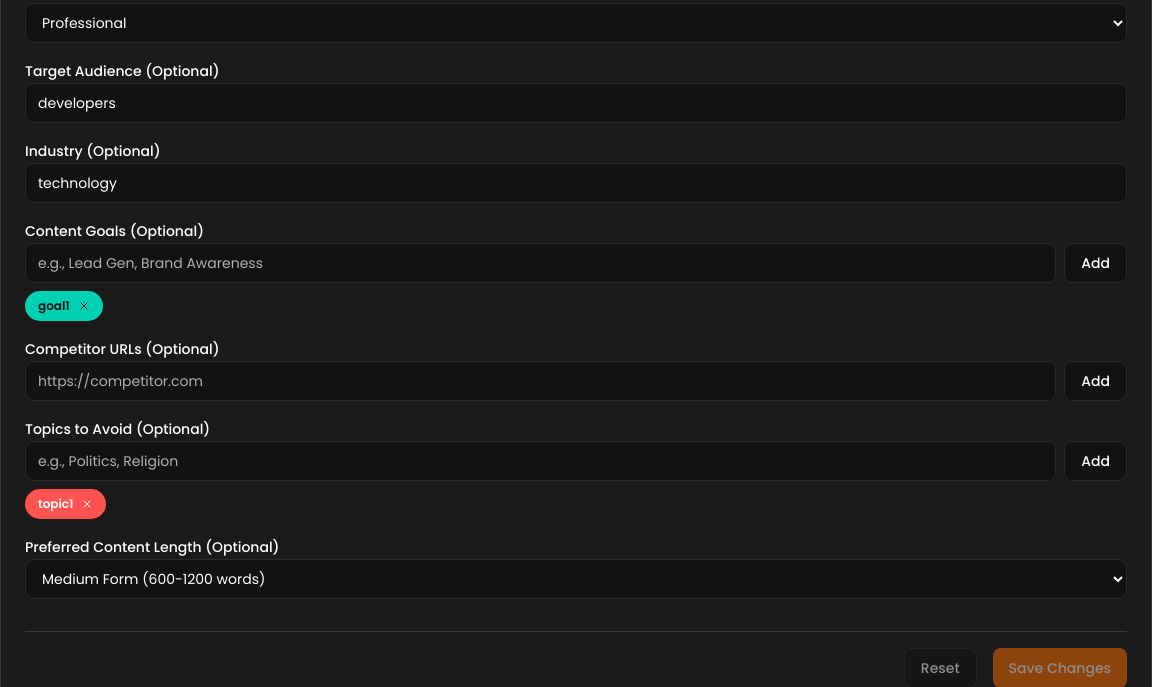
Scenario: SettingsForm › allows adding and removing a competitor URL
The width and height of the screenshot is (1152, 687).
(page scrolled)
Type "https://example.com" into the field with placeholder "https://competitor.com".
click(541, 381); type("https://example.com")  # box [25, 361, 1056, 401]
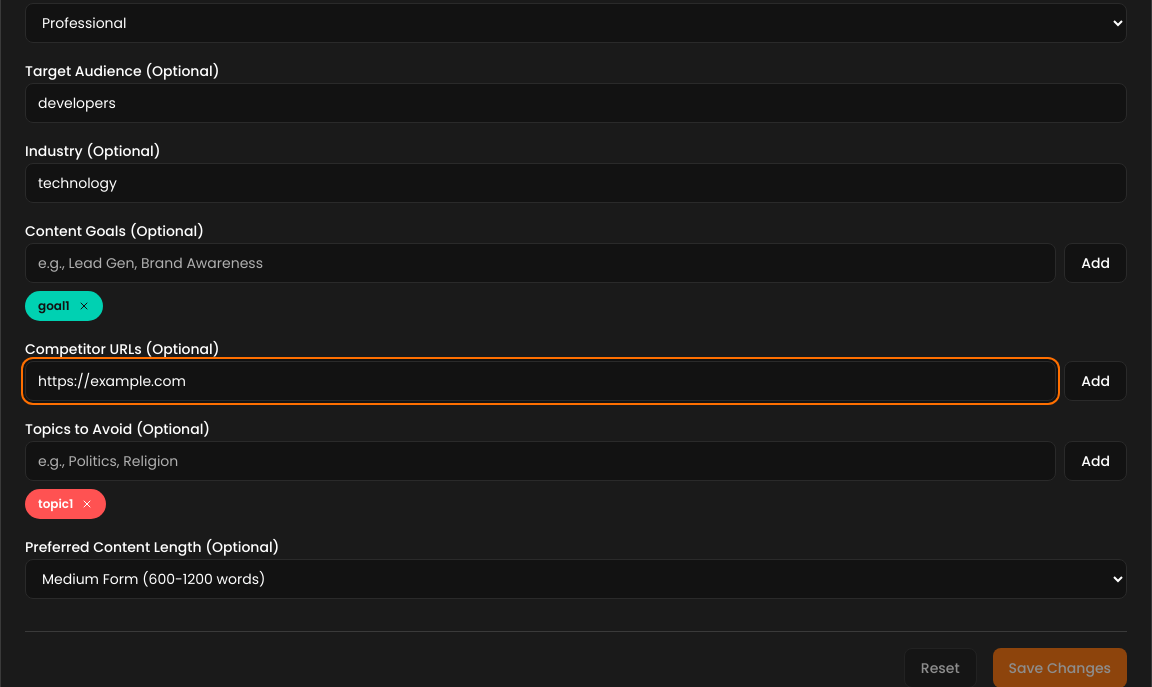
Click the 2nd button "Add".
click(1096, 381)  # box [1064, 361, 1127, 401]
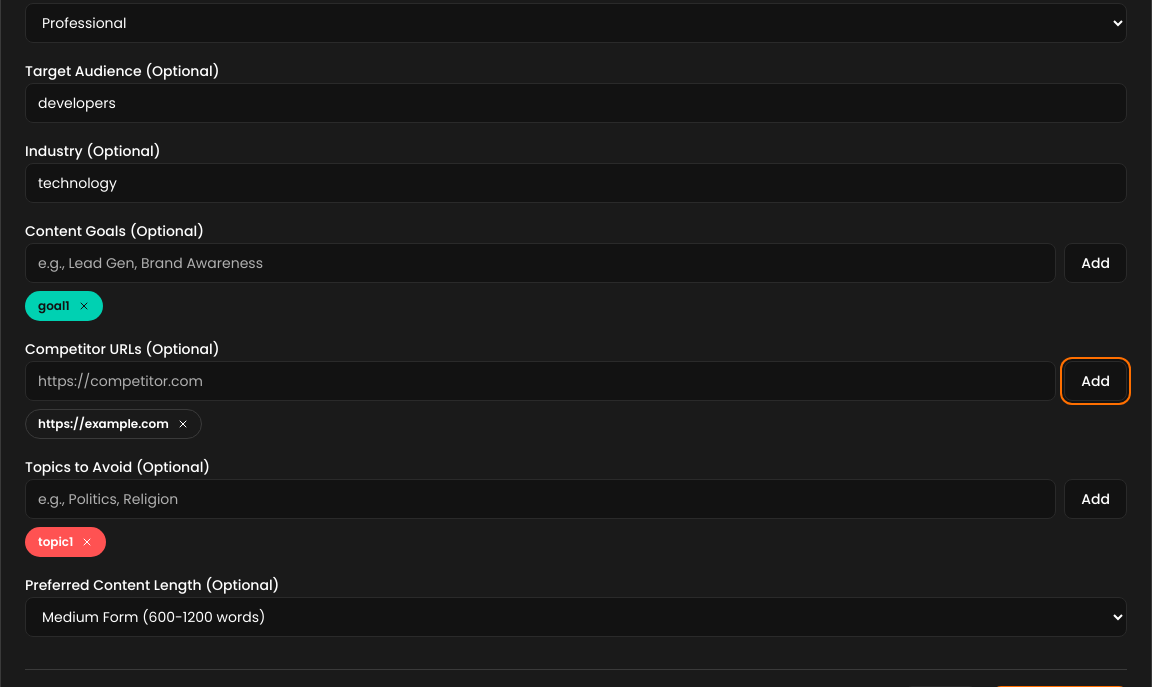
Expected: the text "https://example.com" is shown, [25, 409, 202, 439]
Click the button without text next to "https://example.com".
click(183, 424)  # box [177, 418, 189, 430]
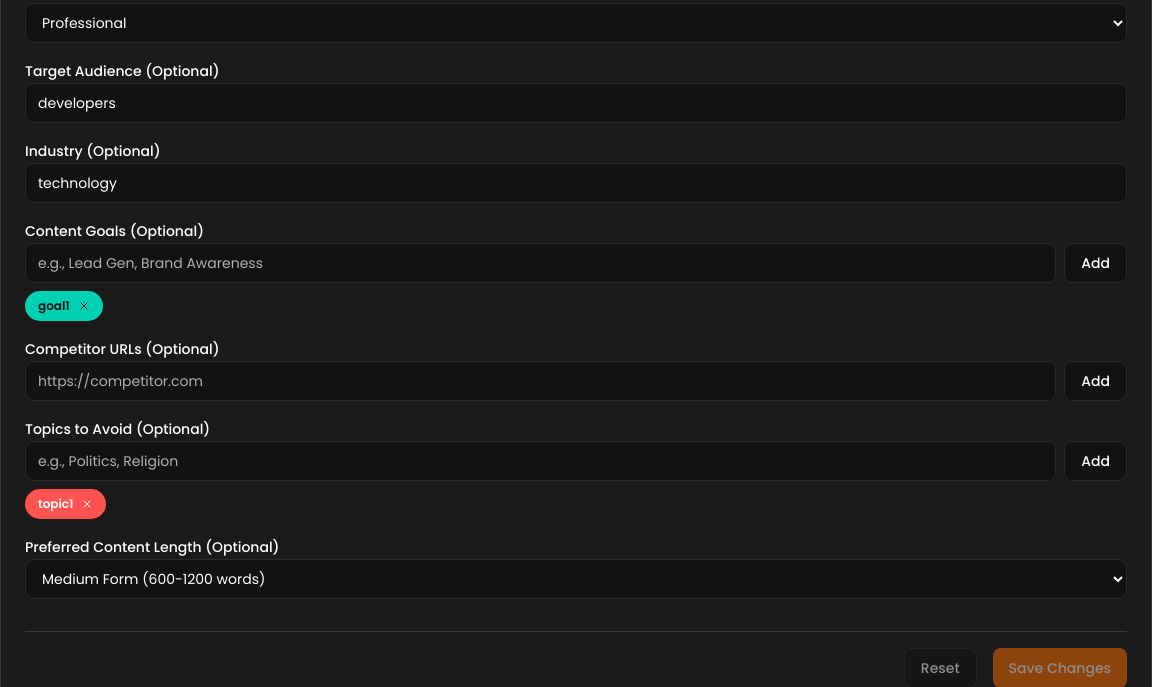
Expected: the text "https://example.com" is gone
